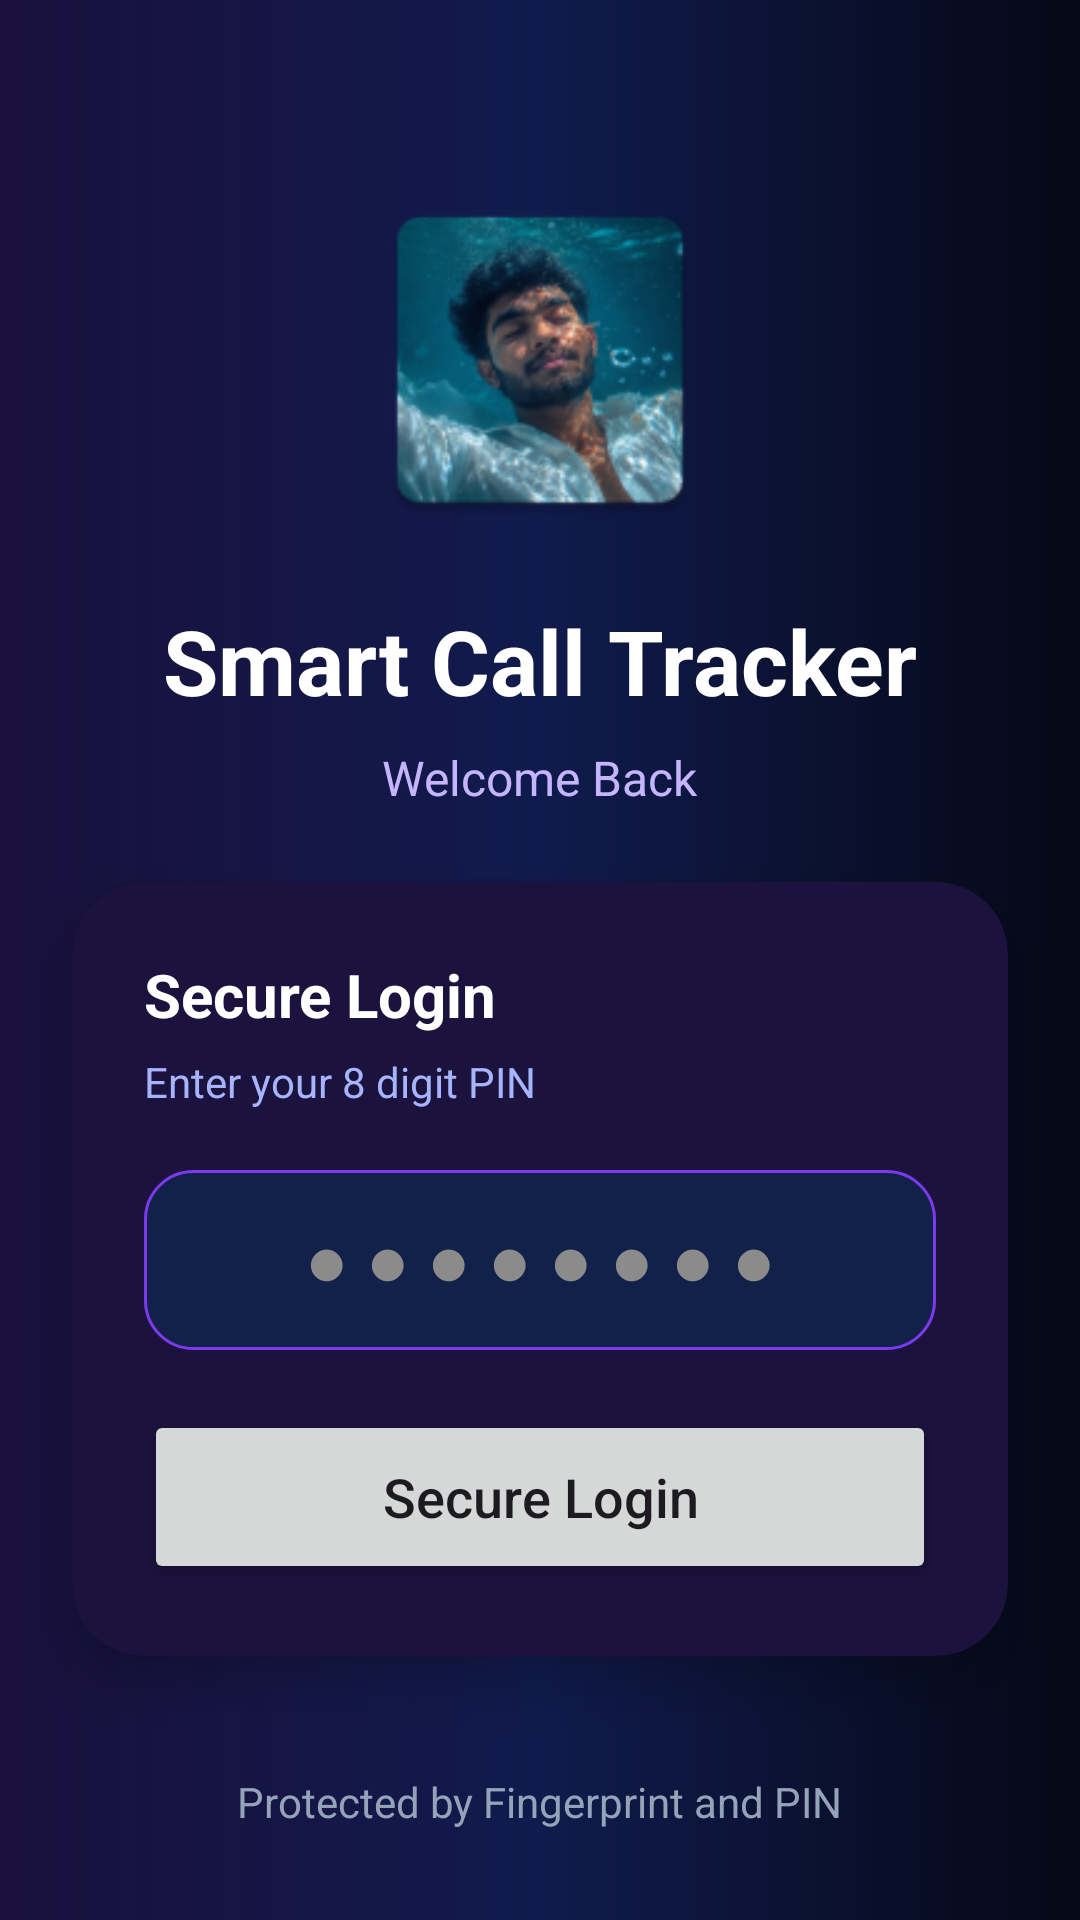

Screen size 1080 × 1920. Icon name, then its box in pixels as (x1, y1, x2, y2):
appicon: (396, 215, 684, 504)
